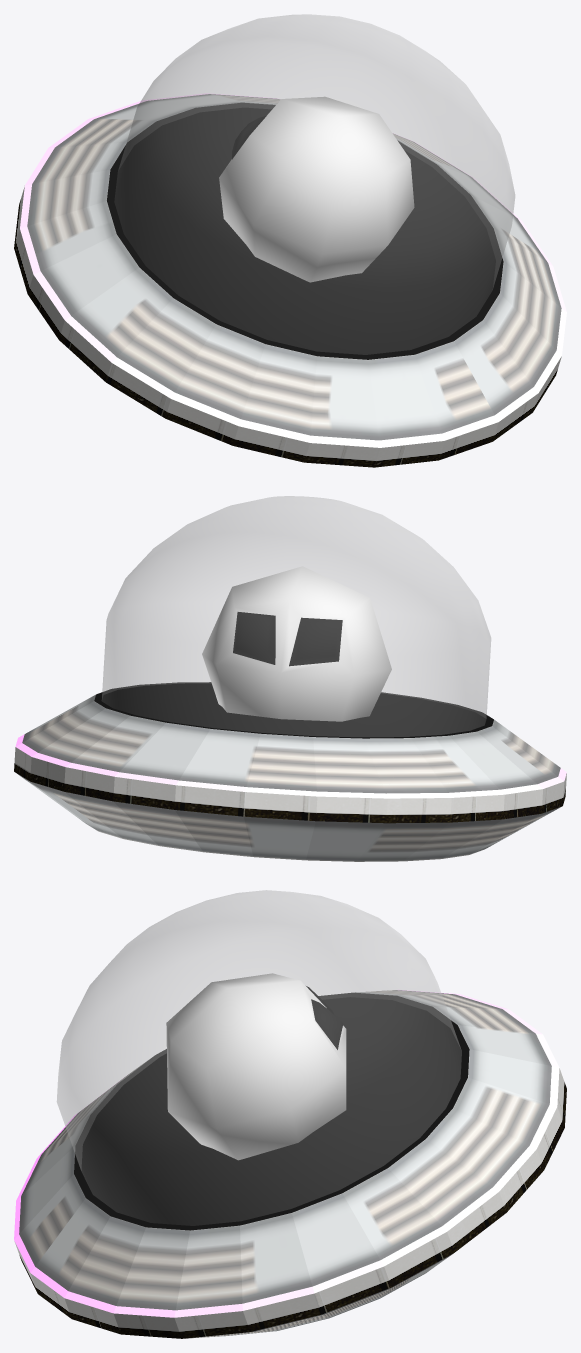
File: ufo.glb
3 renders of one model, top to bottom at view 1: azimuth 30°, elevation 25°; view 2: azimuth 150°, elevation 25°; view 3: azimuth 270°, elevation 25°, orthographic. The views are drawn at different scales.
Visible parts, largest first — view 1: UFO; view 2: UFO; view 3: UFO.
Part boxes in pixels (x1=…): UFO: x1=14, y1=14, x2=566, y2=467; UFO: x1=14, y1=496, x2=566, y2=861; UFO: x1=14, y1=890, x2=566, y2=1338.
Bounding box in the file's own units: 3.17 × 2.26 × 3.07.
3 materials, 1 textured.
